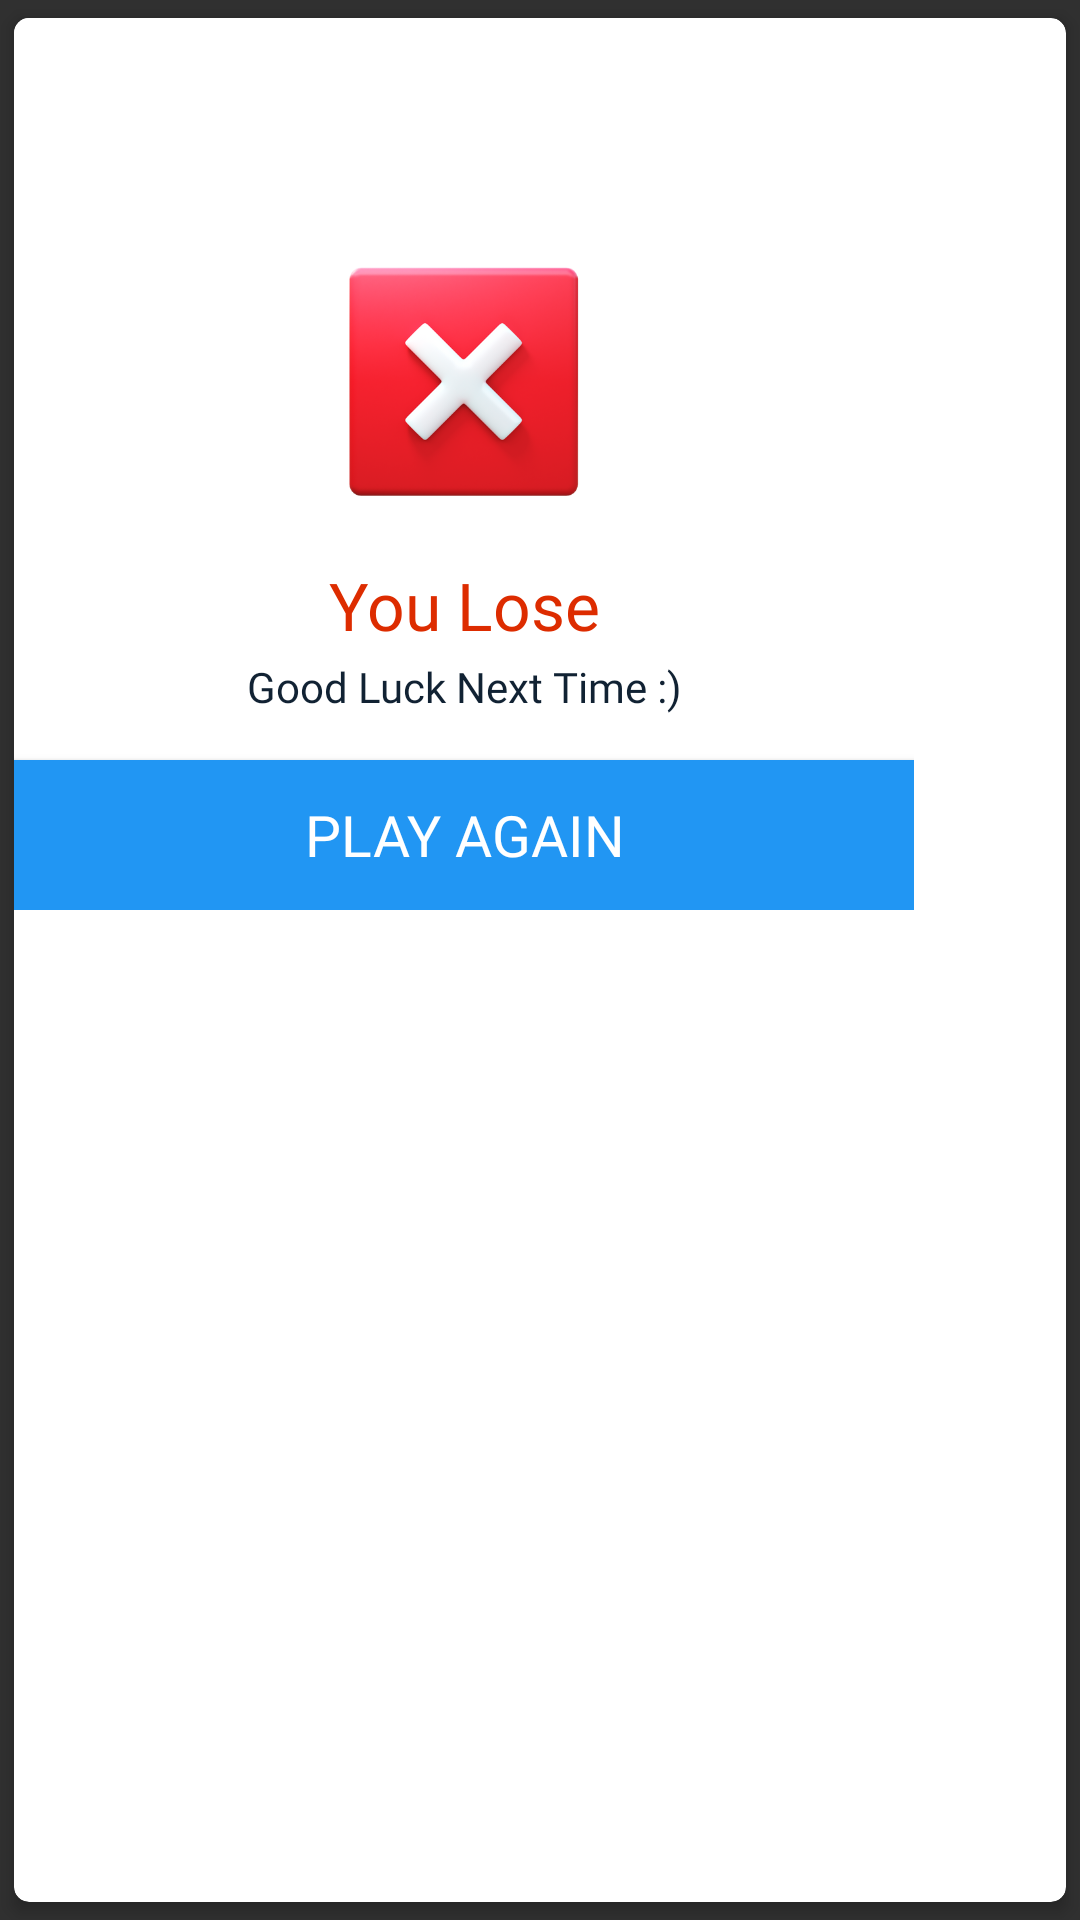

Named icons in this screenshot (1080×1920) and their bounding boxes, [x1, y1, x2, y2]:
close 3d: [349, 268, 578, 496]
